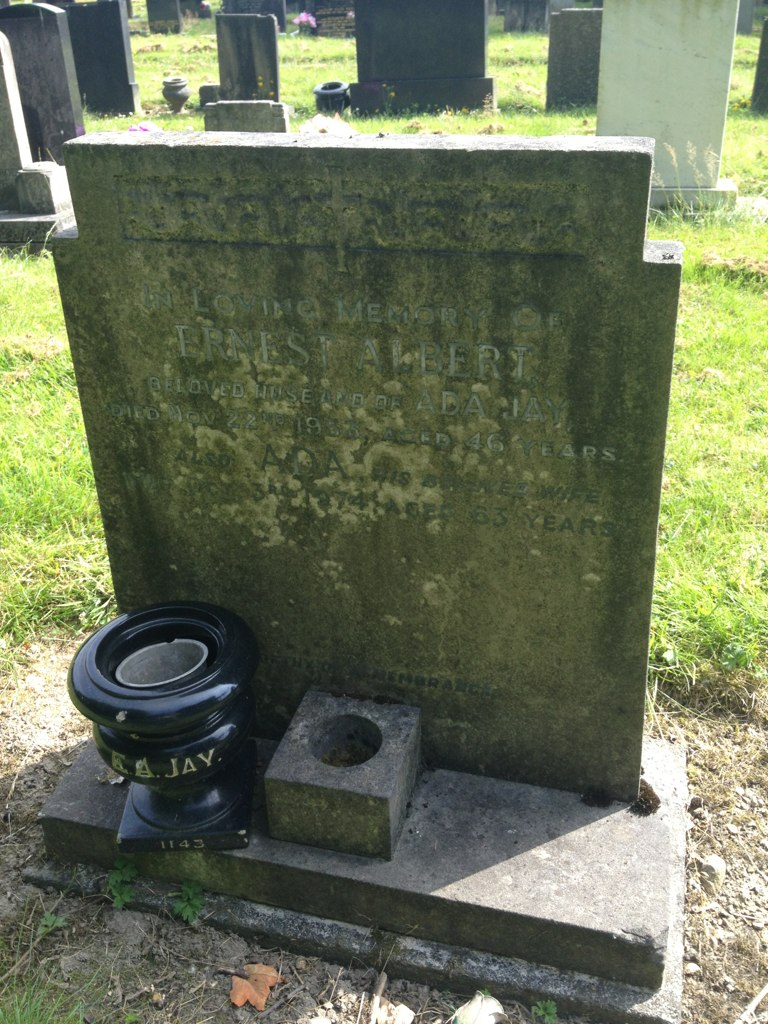upright: (5, 127, 703, 1020)
